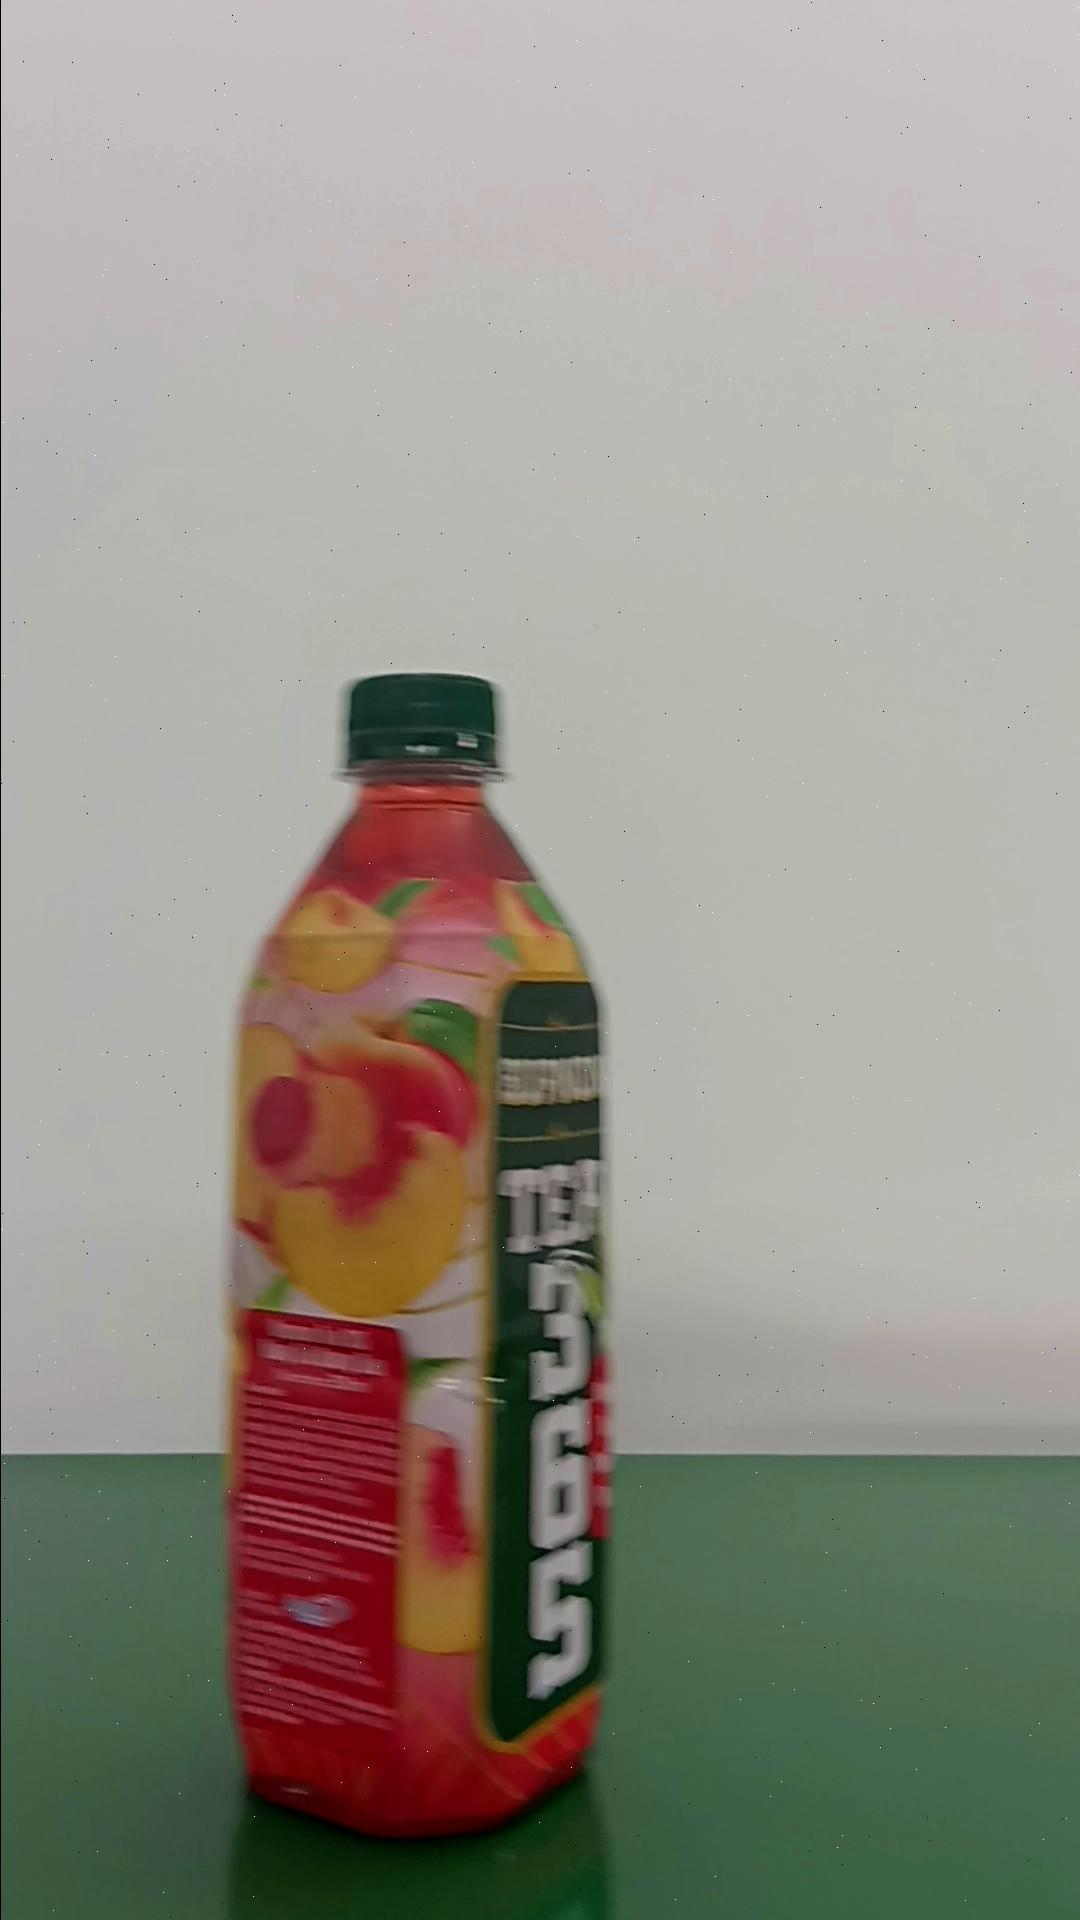khong loi: (220, 669, 617, 1840)
